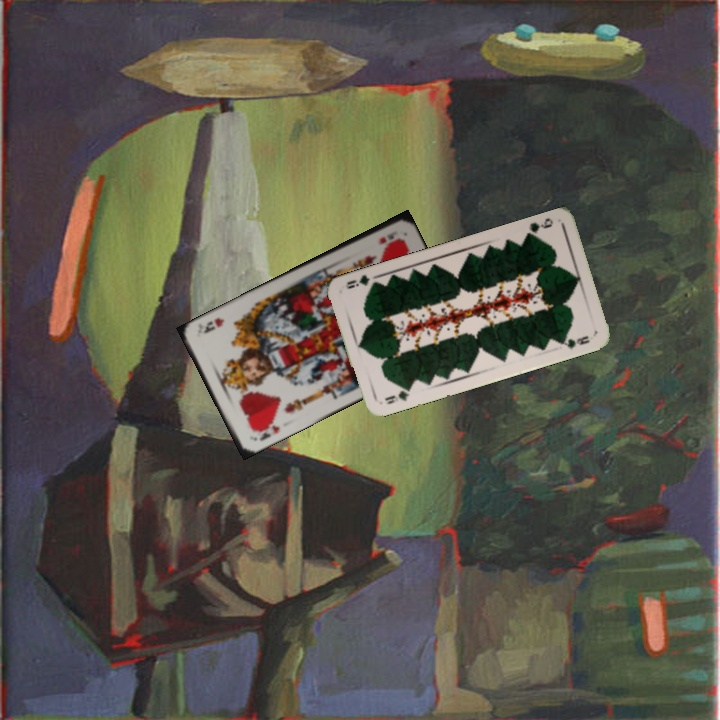G9: (522, 214, 556, 241), (380, 383, 414, 407)
HK: (248, 418, 282, 444), (375, 227, 399, 247)
